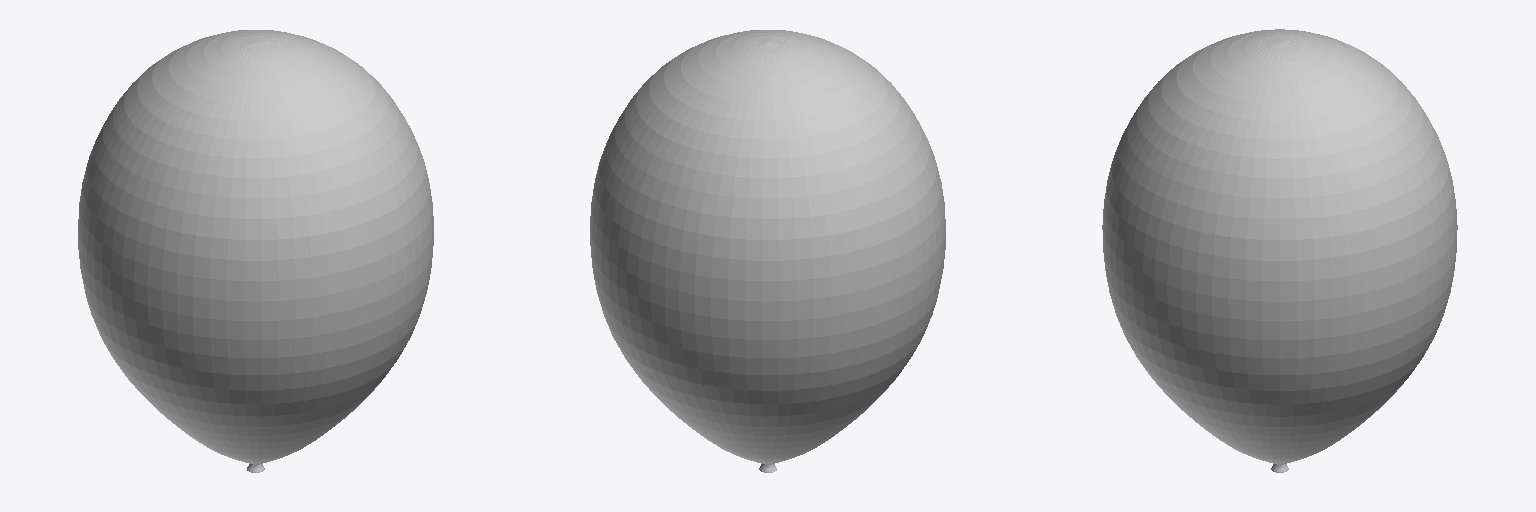
Rendered from Globo3.obj.
3 views of the same model, side by side, from view 1: azimuth 30°, elevation 25°; view 2: azimuth 150°, elevation 25°; view 3: azimuth 270°, elevation 25° (orthographic).
Visible parts, largest first — view 1: Sphere.019; view 2: Sphere.019; view 3: Sphere.019.
Boxes of the visible parts, <box> form: Sphere.019: <box>78,30,433,472</box>; Sphere.019: <box>590,30,945,472</box>; Sphere.019: <box>1102,29,1457,472</box>.
Bounding box in the file's own units: 0.5211 × 0.688 × 0.519.